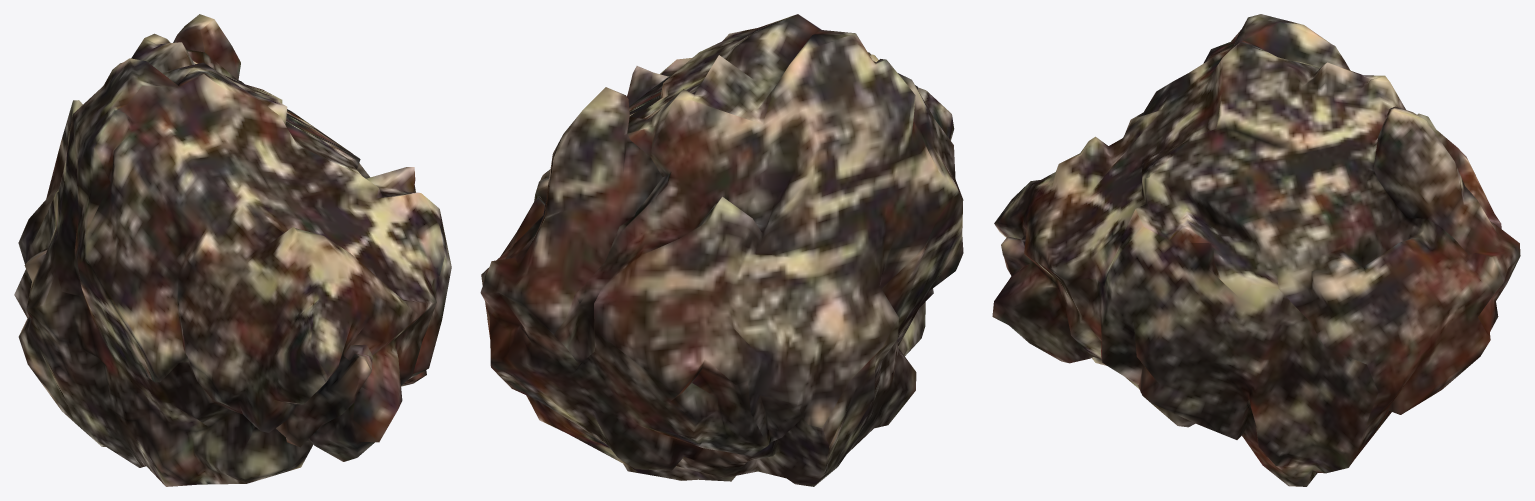
The model's file is SM_RockSteel_27feaf.glb.
3 renders of one model, left to right at view 1: azimuth 30°, elevation 25°; view 2: azimuth 150°, elevation 25°; view 3: azimuth 270°, elevation 25°, orthographic. The views are drawn at different scales.
Bounding box in the file's own units: 1.63 × 1.97 × 2.36.
Materials: 1 (1 with a texture image).
